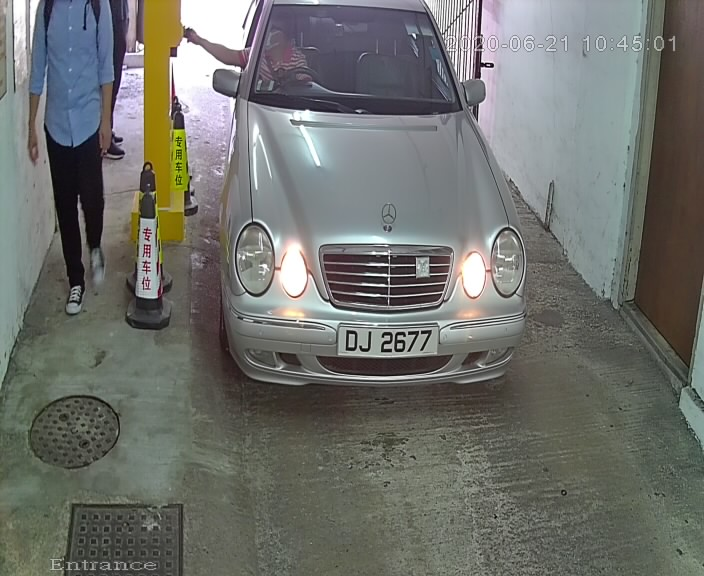privatecar: (200, 2, 541, 425)
